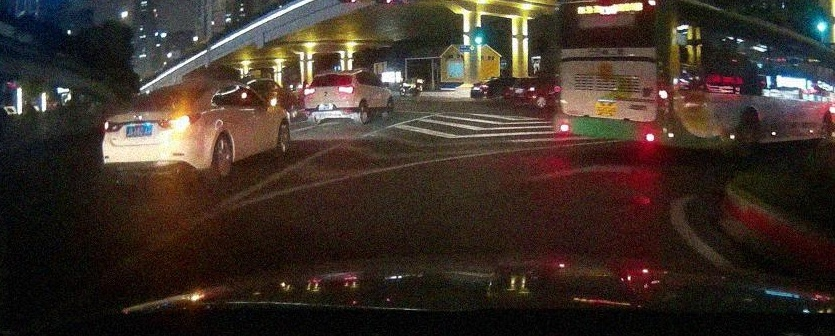L_light: (104, 120, 124, 132), (554, 75, 560, 106), (303, 88, 316, 96)
R_light: (159, 114, 201, 129), (658, 74, 669, 110), (338, 86, 354, 93)
T_light: (600, 1, 614, 6), (166, 90, 179, 93), (327, 74, 337, 77)
night-no: (303, 70, 358, 125)
night-right: (553, 0, 671, 159), (102, 80, 210, 190)
